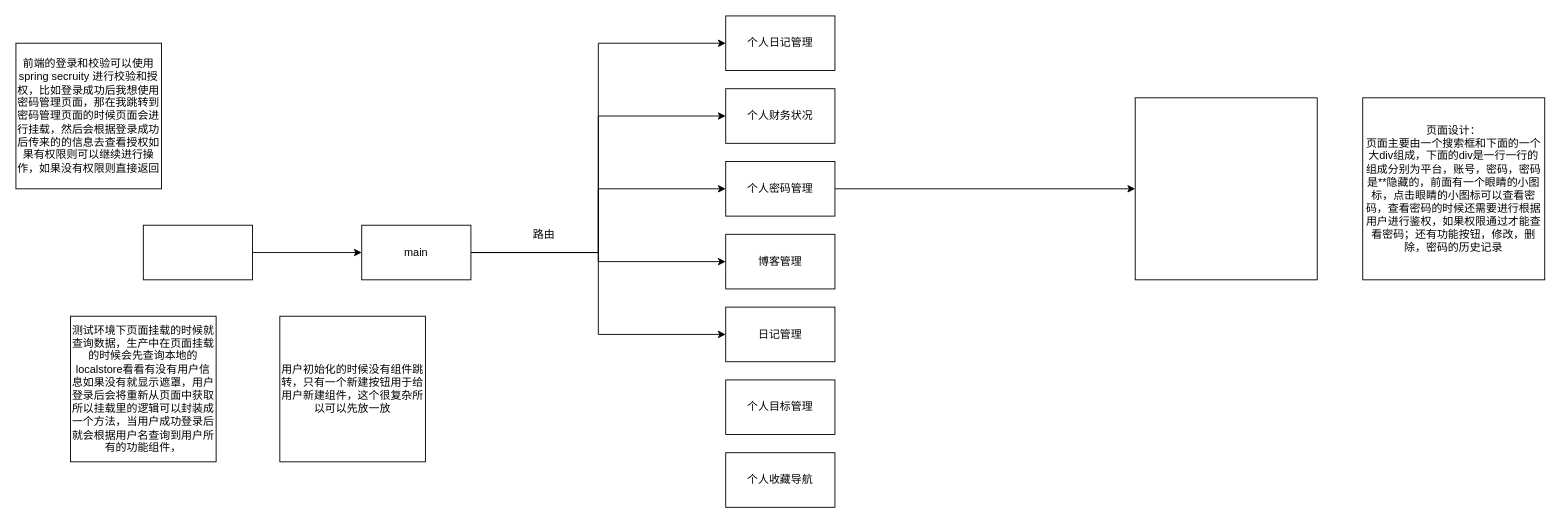
This 1561x523 diagram has some shape labels left out. The shapes that lost their labels are listed below. From the top down, each one's box as (x1, y1, x2, y2) in pixels, then its label:
(1134, 97, 1317, 280): password search 根据邮箱授权后可以看到个人的密码更改记录 当没有权限的时候无法直接登录这个页面
(142, 224, 253, 280): hello
